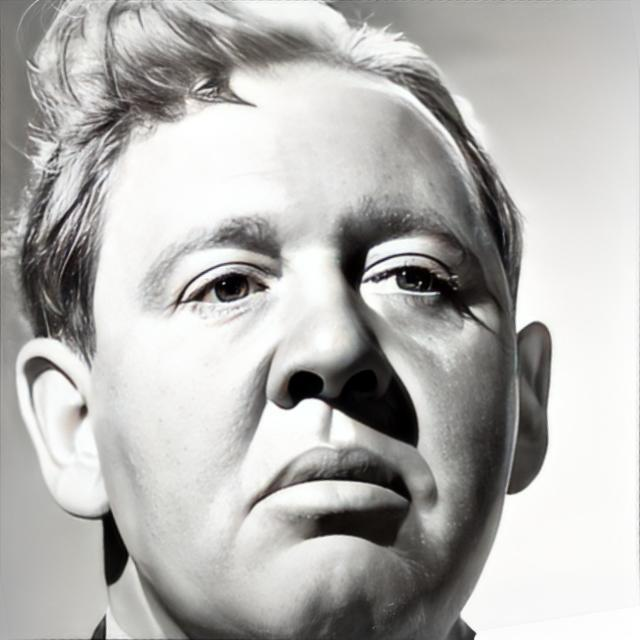sad: (91, 58, 518, 637)
